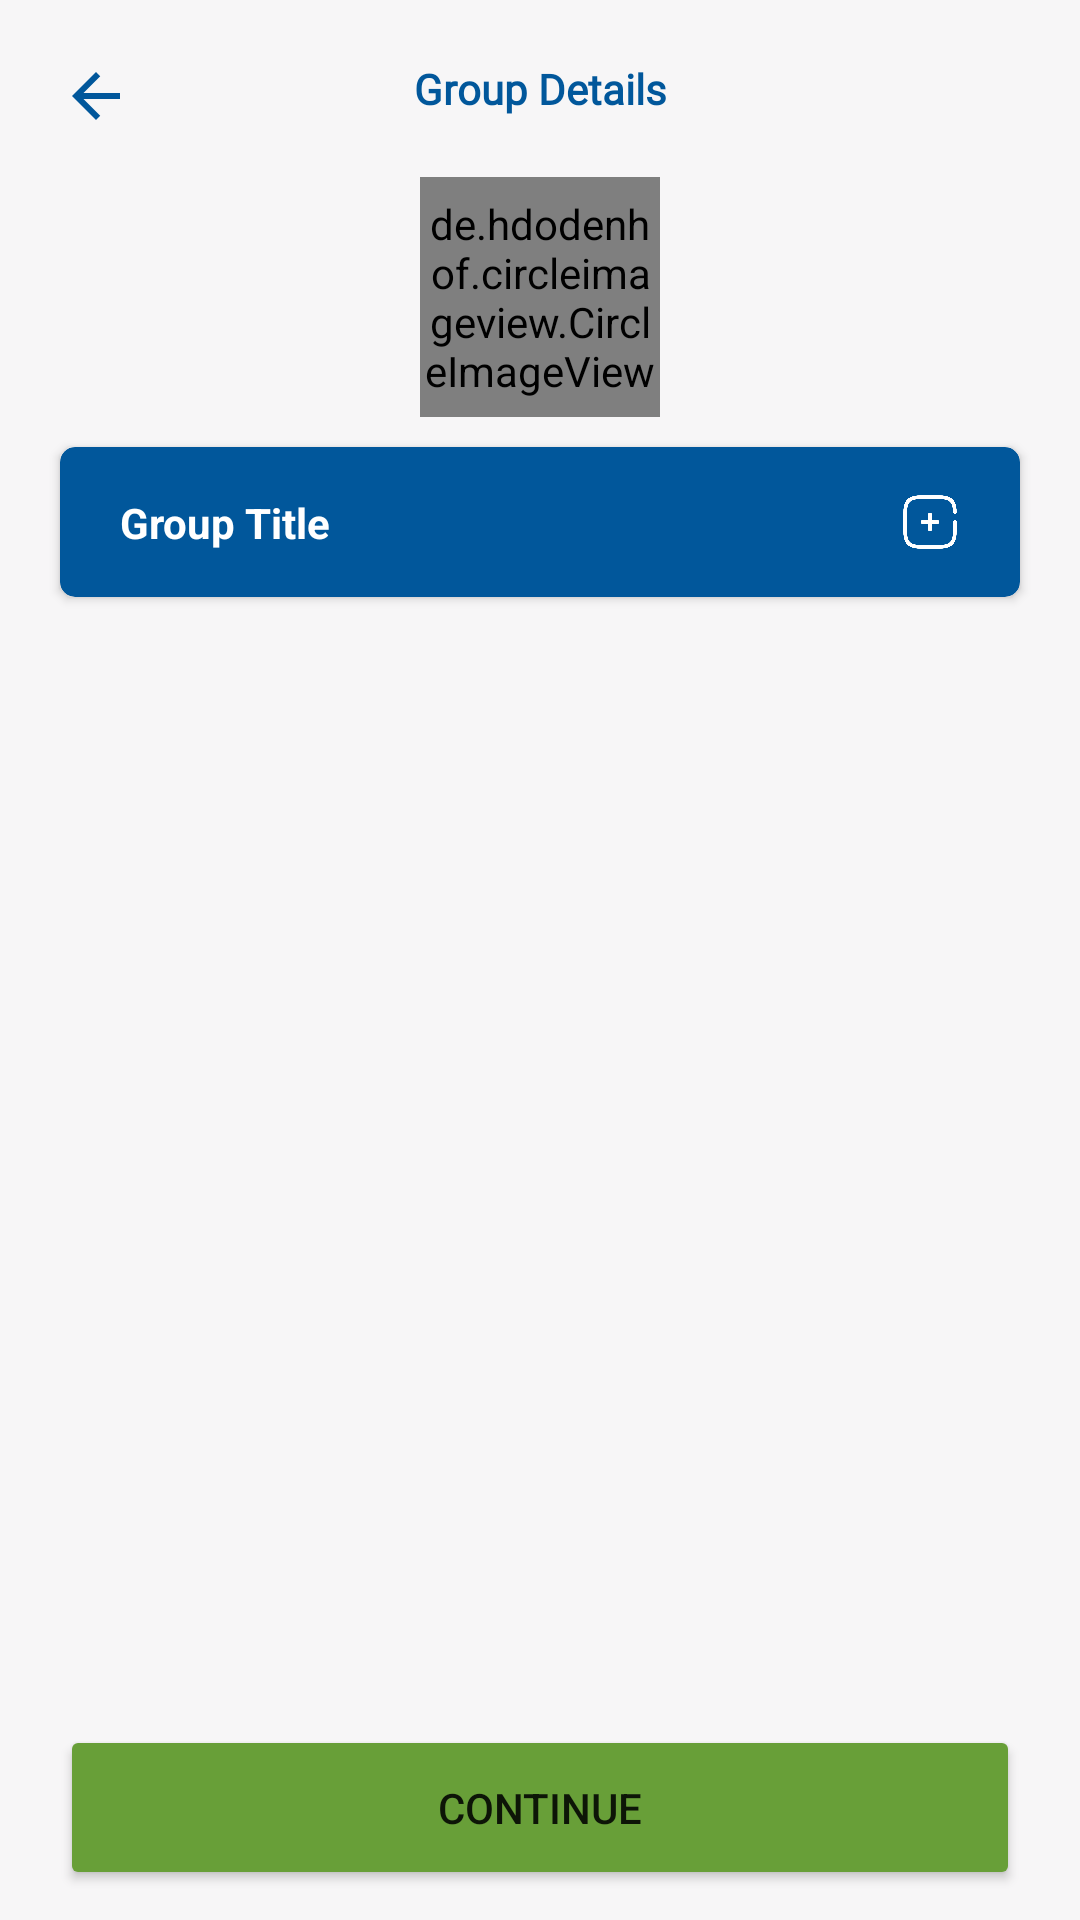

Screen size 1080x1920. Icon name, then its box in pixels as [x1=x1, y1=y1, x2=x2, y2=y2]:
add: [x1=903, y1=495, x2=957, y2=549]
back: [x1=72, y1=72, x2=120, y2=120]
